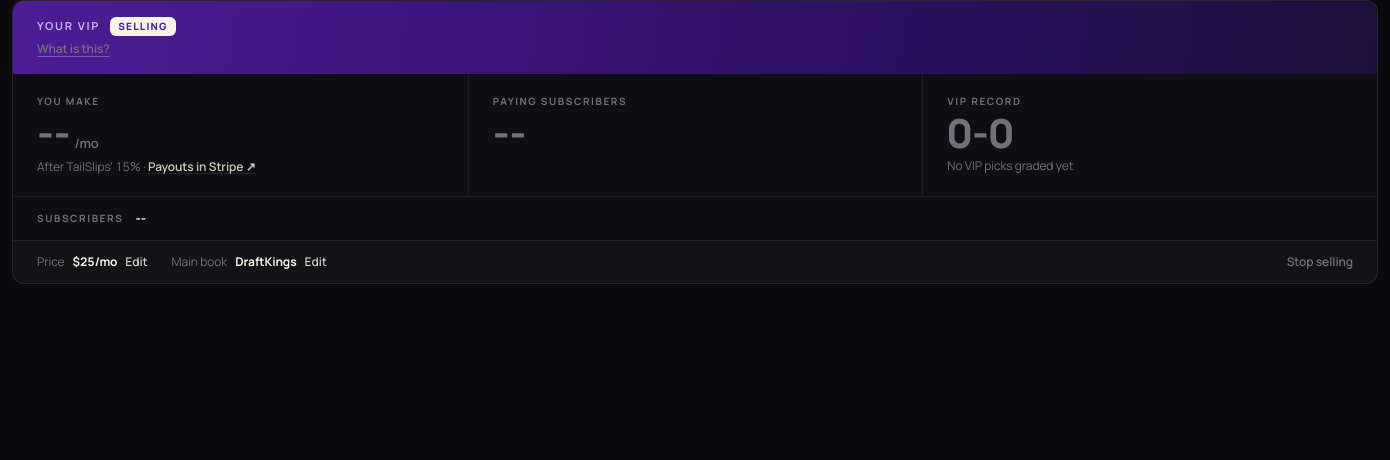
SellerStrip › a 200 that is not stopped shows an error
This screenshot has width=1390, height=460.
Click the button "Stop selling".
click(1320, 262)  # box [1287,253,1353,271]
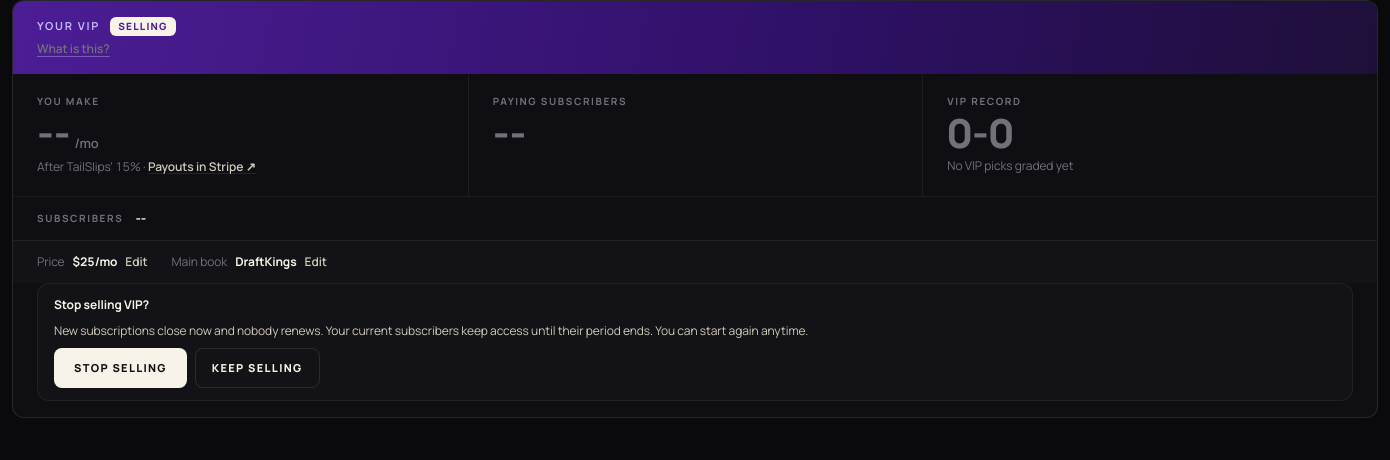
Click the button "Stop selling".
click(120, 368)  # box [54,348,187,388]
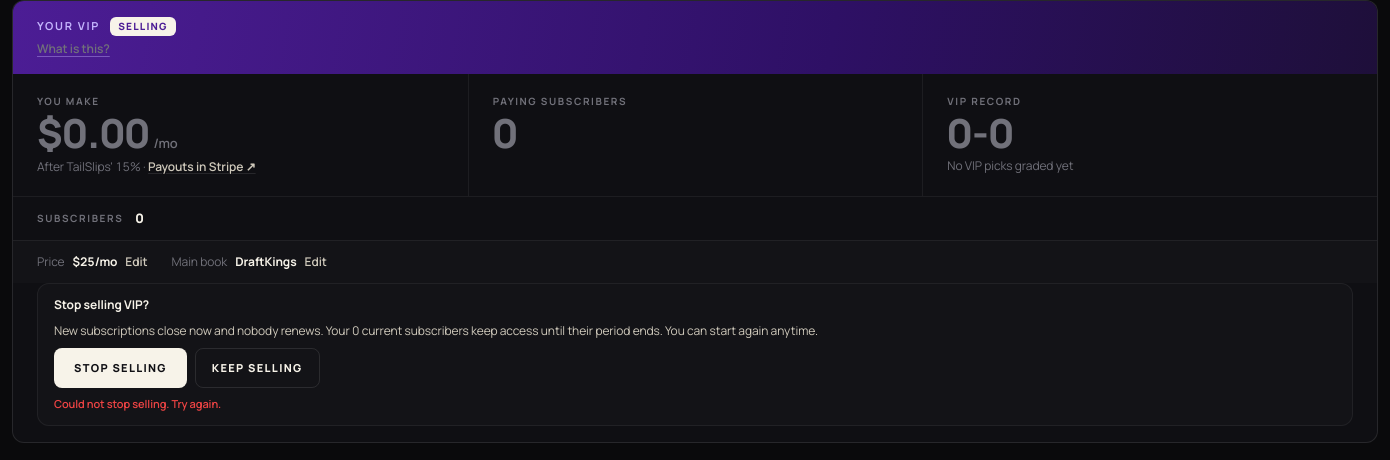
Now the text "Could not stop selling. Try again." is shown, box [54,396,221,411]
